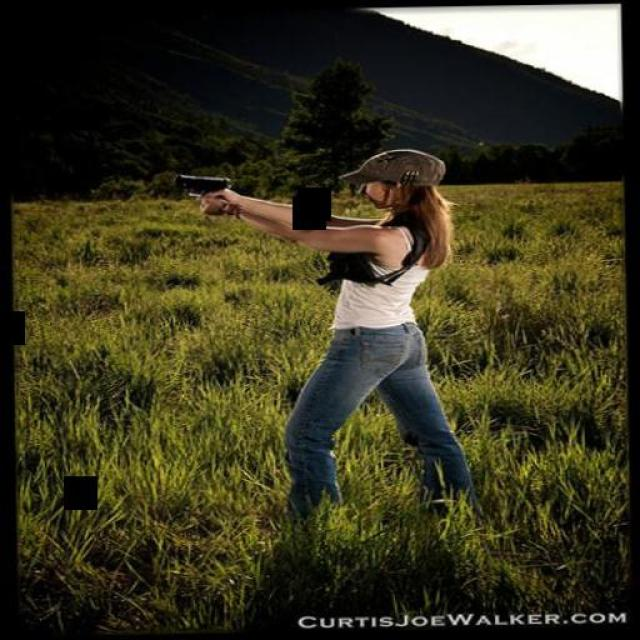gun: (176, 168, 234, 212)
